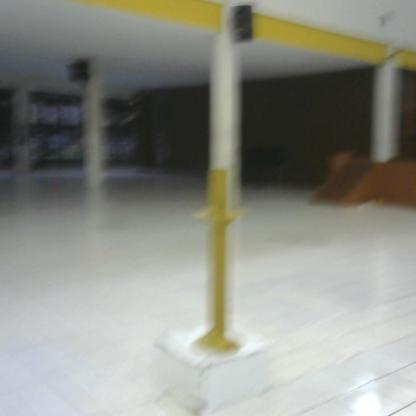pole: (187, 162, 251, 366)
